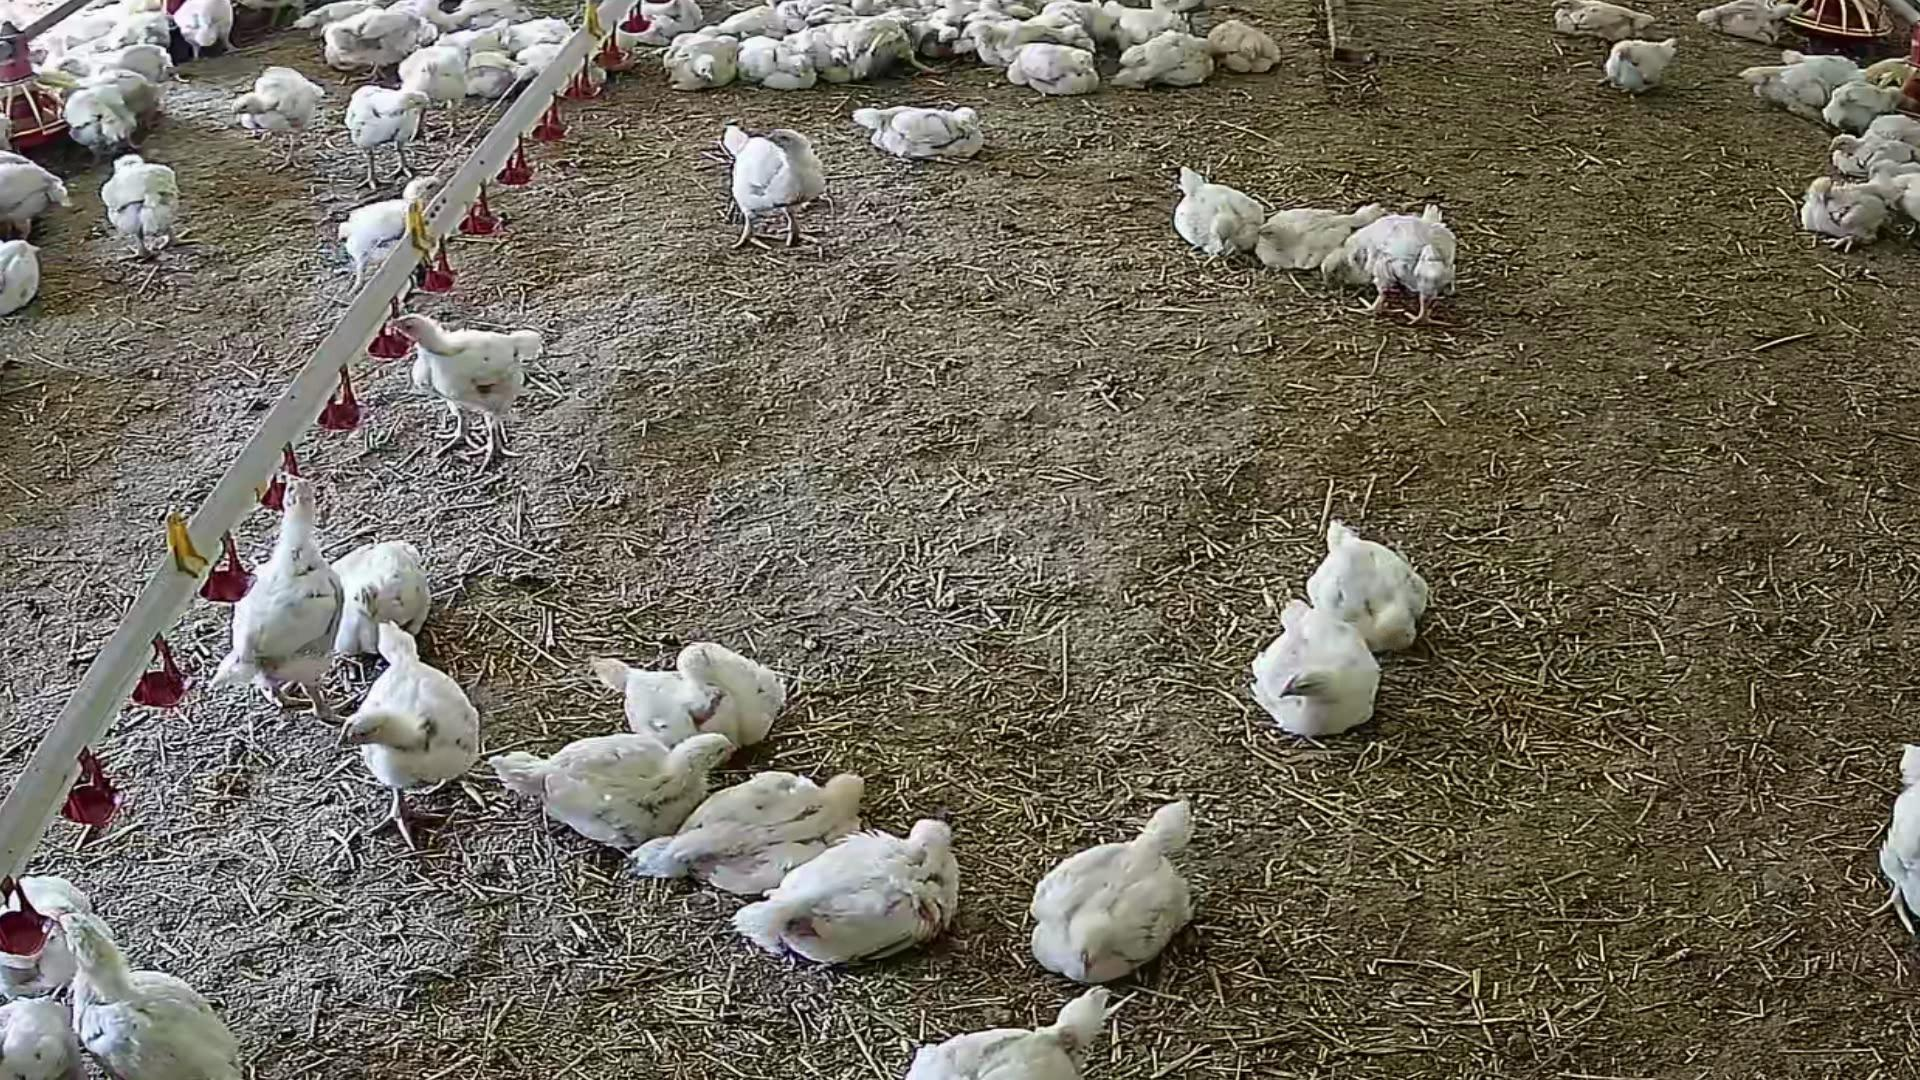poussin: (1005, 774, 1251, 977), (316, 637, 502, 870), (210, 469, 360, 748), (389, 299, 567, 501), (760, 814, 982, 973), (51, 905, 247, 1080), (1221, 588, 1383, 770), (673, 757, 881, 889), (587, 629, 786, 761), (534, 731, 749, 847), (907, 967, 1120, 1080), (1317, 208, 1495, 327), (1304, 514, 1440, 661), (715, 117, 851, 249), (851, 95, 993, 199), (1150, 173, 1286, 276), (1779, 156, 1899, 272), (0, 852, 86, 1000), (214, 66, 326, 175), (334, 526, 426, 658), (95, 148, 186, 281), (1101, 17, 1222, 104), (340, 173, 443, 273), (338, 73, 426, 186), (1266, 196, 1374, 285), (994, 41, 1110, 116), (1726, 44, 1844, 116), (802, 12, 913, 88), (401, 41, 483, 137), (319, 7, 429, 76), (40, 73, 135, 153), (1544, 0, 1673, 54), (0, 142, 65, 251), (957, 17, 1089, 69), (0, 992, 76, 1080), (1602, 37, 1695, 109), (735, 26, 820, 104), (58, 42, 186, 94), (1691, 0, 1805, 50), (0, 222, 47, 342), (169, 0, 260, 61), (451, 20, 562, 67), (1208, 9, 1283, 79), (1815, 127, 1915, 175), (674, 33, 738, 105), (1818, 79, 1920, 124), (464, 47, 542, 99), (637, 0, 698, 44)
